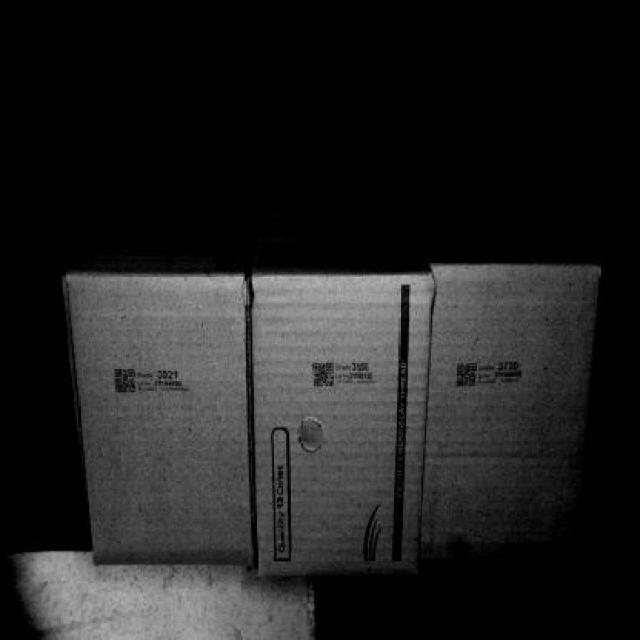cardboxes: (68, 268, 255, 570), (258, 276, 424, 576), (437, 266, 591, 552)
